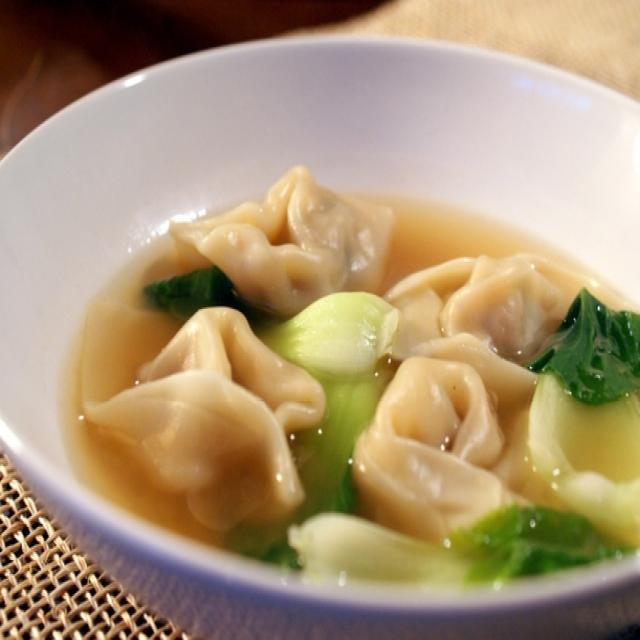汤锅炖物: (59, 130, 632, 604)
